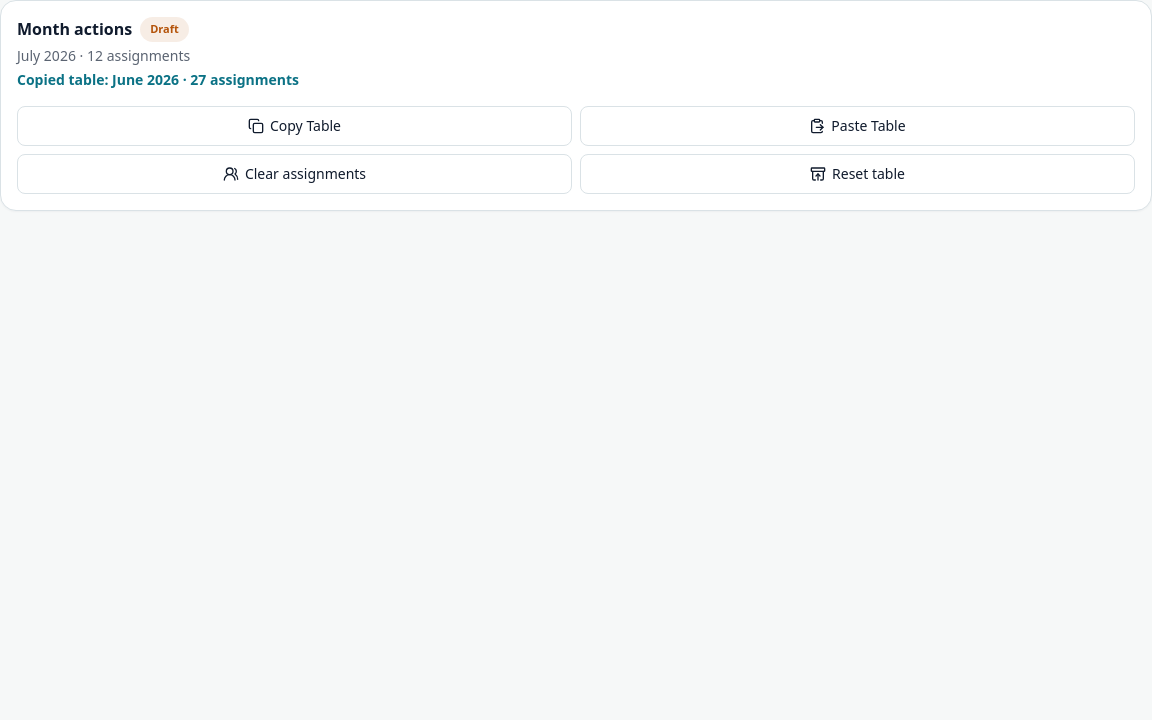
Scenario: AdminMonthControl › explains the overwrite and requires focused PASTE confirmation before executing paste
Click the button "Paste Table": (858, 126) [580, 106, 1135, 146]
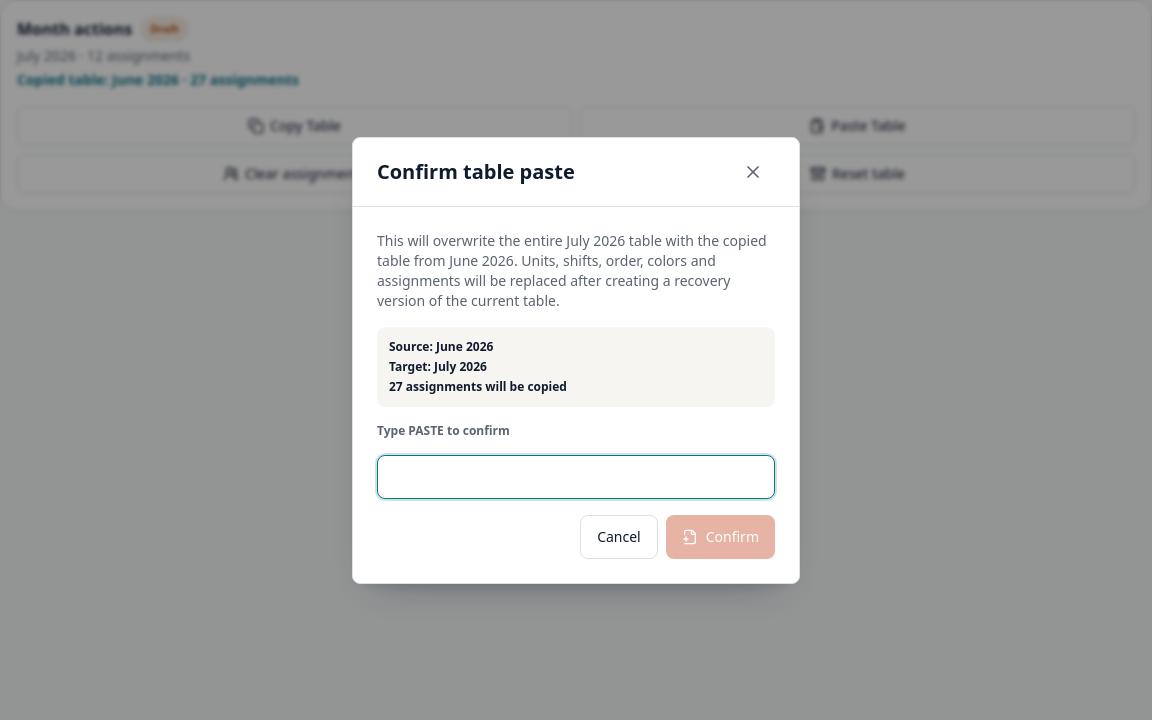
Result: the text "overwrite the entire July 2026 table" shows "June 2026" at [377, 230, 767, 310]
Result: the text "Source: June 2026" is shown at [389, 338, 493, 354]
Result: the text "Target: July 2026" is shown at [389, 358, 487, 374]
In the field labelled "Type PASTE to confirm": (576, 476) [377, 454, 775, 498], type "paste"
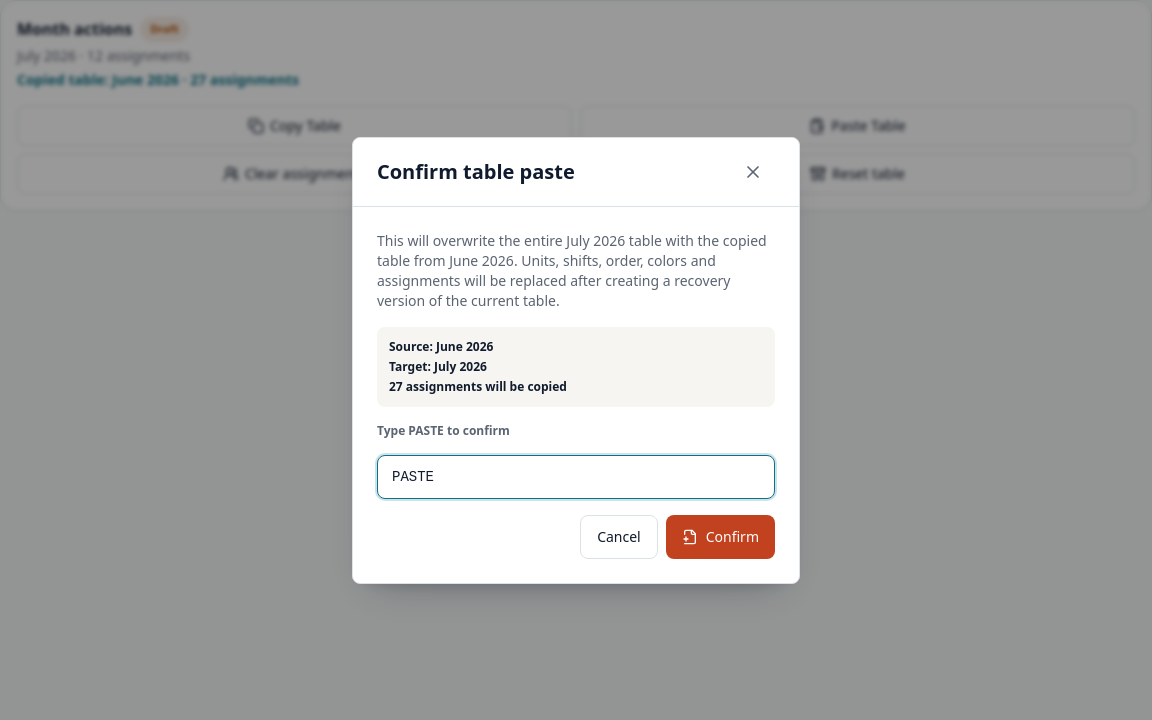
Click the button "Confirm": (720, 536) [666, 514, 775, 558]
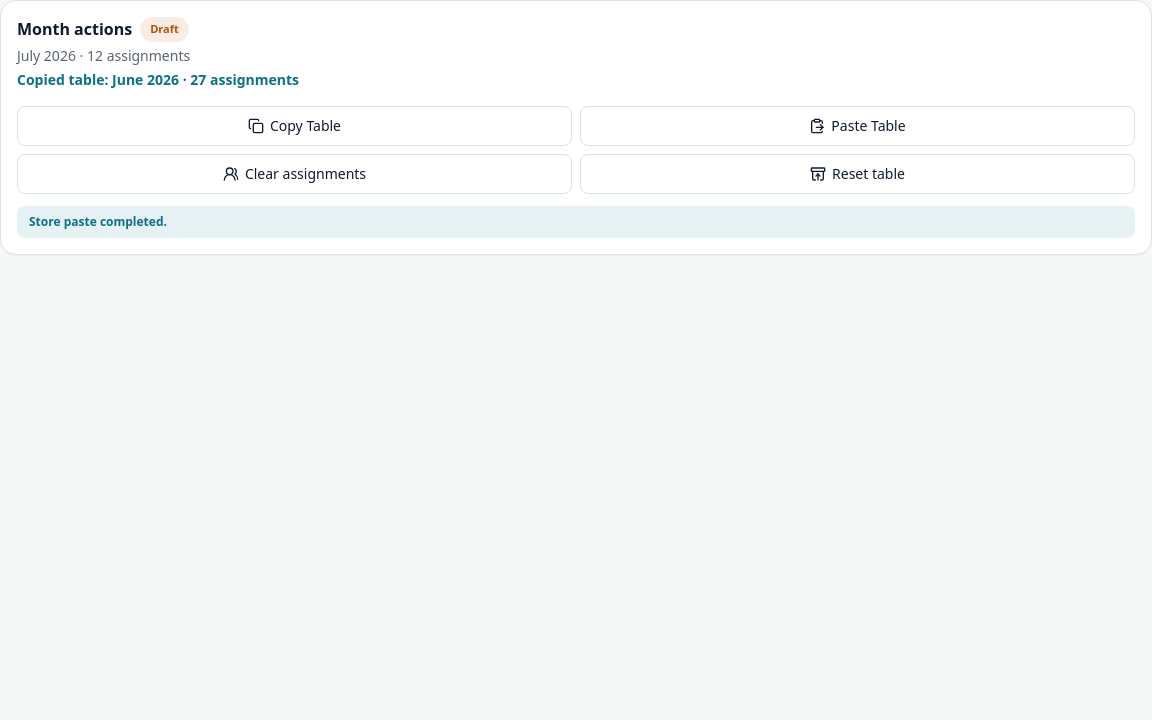
Result: the label labelled "Type PASTE to confirm" is gone
Result: the text "Store paste completed." is shown at [17, 206, 1135, 238]
